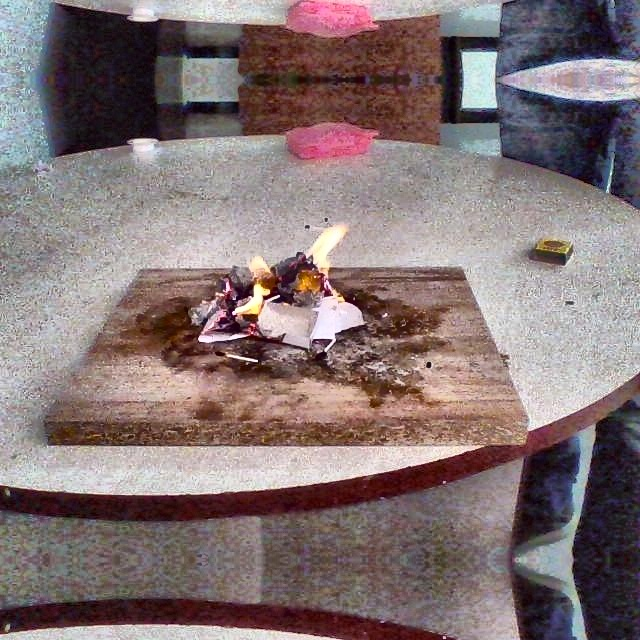fire: (225, 211, 374, 366)
